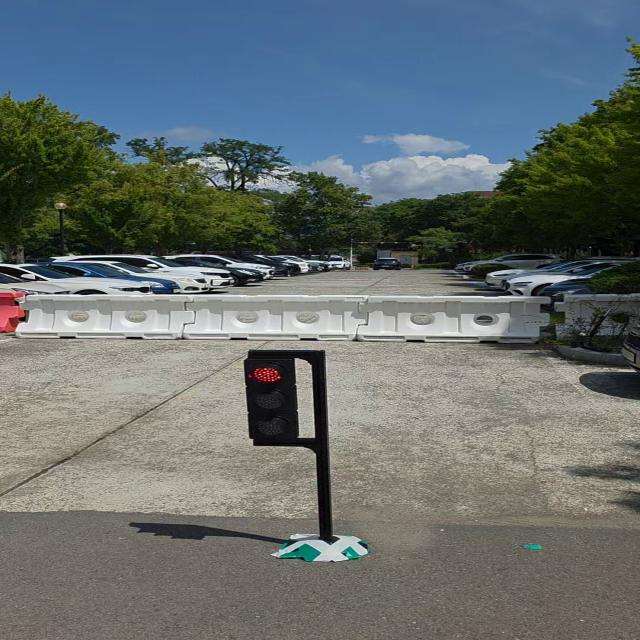red: (238, 354, 312, 444)
